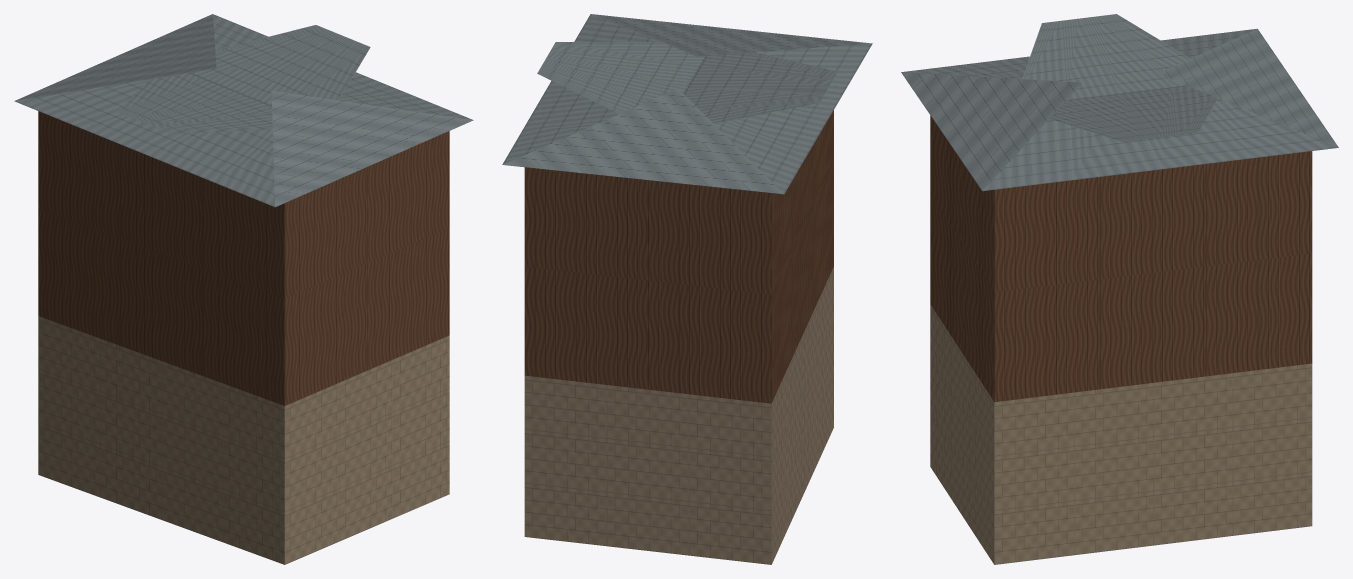
Rendered from bld_c14_15_483.gltf.
The picture shows the model from 3 angles, left to right: view 1: azimuth 30°, elevation 25°; view 2: azimuth 150°, elevation 25°; view 3: azimuth 270°, elevation 25°; orthographic projection. The views are drawn at different scales.
Parts seen in each view (by area): view 1: bld_c14_15_483; view 2: bld_c14_15_483; view 3: bld_c14_15_483.
Boxes of the visible parts, x1,y1,x2,y2 form: bld_c14_15_483: (14, 14, 473, 564); bld_c14_15_483: (502, 14, 872, 564); bld_c14_15_483: (901, 14, 1338, 564).
Bounding box in the file's own units: 10.93 × 13 × 12.44.
Materials: 3 (3 with a texture image).
